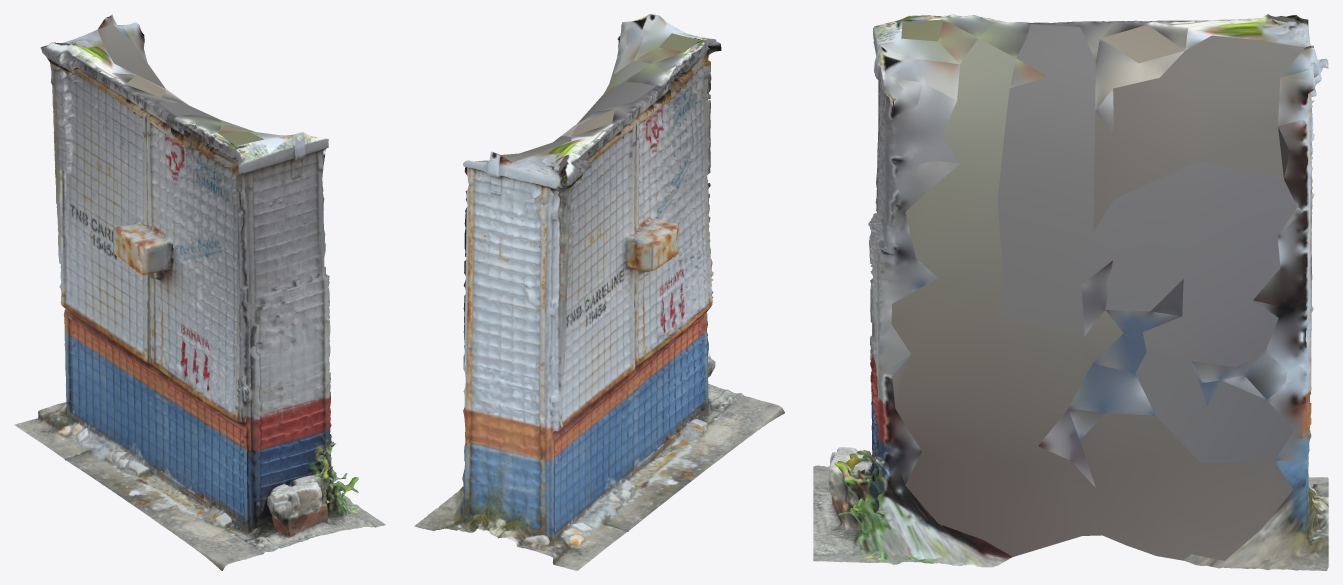
File: trampaelectrica.glb
3 renders of one model, left to right at view 1: azimuth 30°, elevation 25°; view 2: azimuth 150°, elevation 25°; view 3: azimuth 270°, elevation 25°, orthographic. The views are drawn at different scales.
Parts seen in each view (by area): view 1: Object_4; view 2: Object_4; view 3: Object_4.
Part boxes in pixels (left/top/right/bottom): Object_4: left=14, top=14, right=385, bottom=570; Object_4: left=414, top=14, right=784, bottom=570; Object_4: left=813, top=14, right=1328, bottom=570.
Bounding box in the file's own units: 0.788 × 1.83 × 1.73.
Materials: 1 (1 with a texture image).
